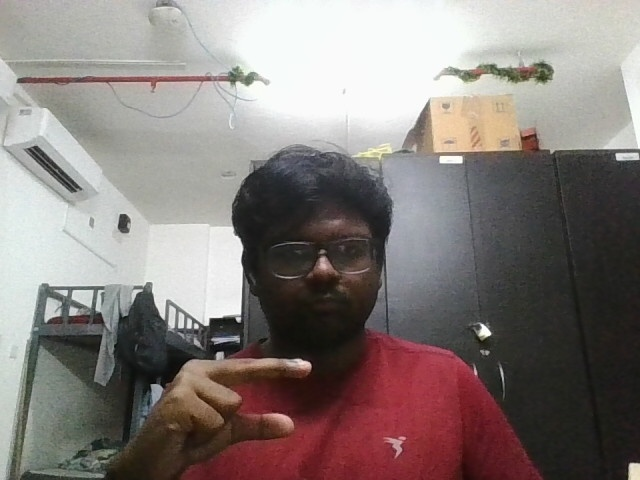No: (105, 344, 328, 474)
